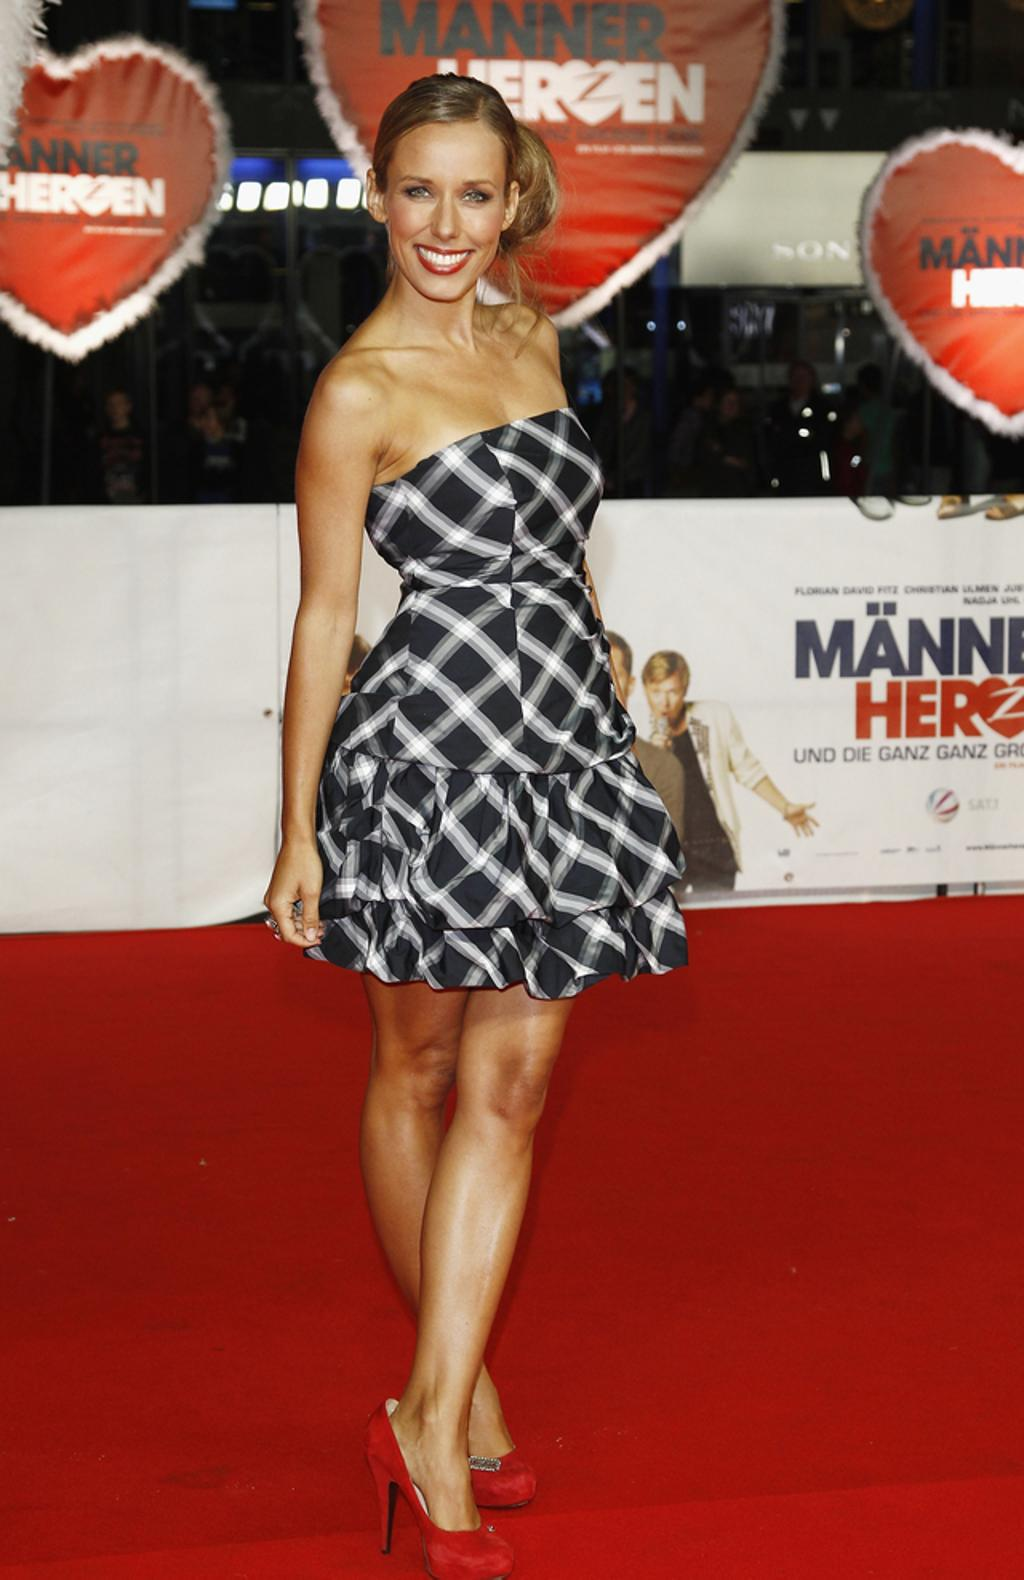face: (384, 139, 505, 300), (585, 650, 627, 713), (648, 678, 683, 722)
